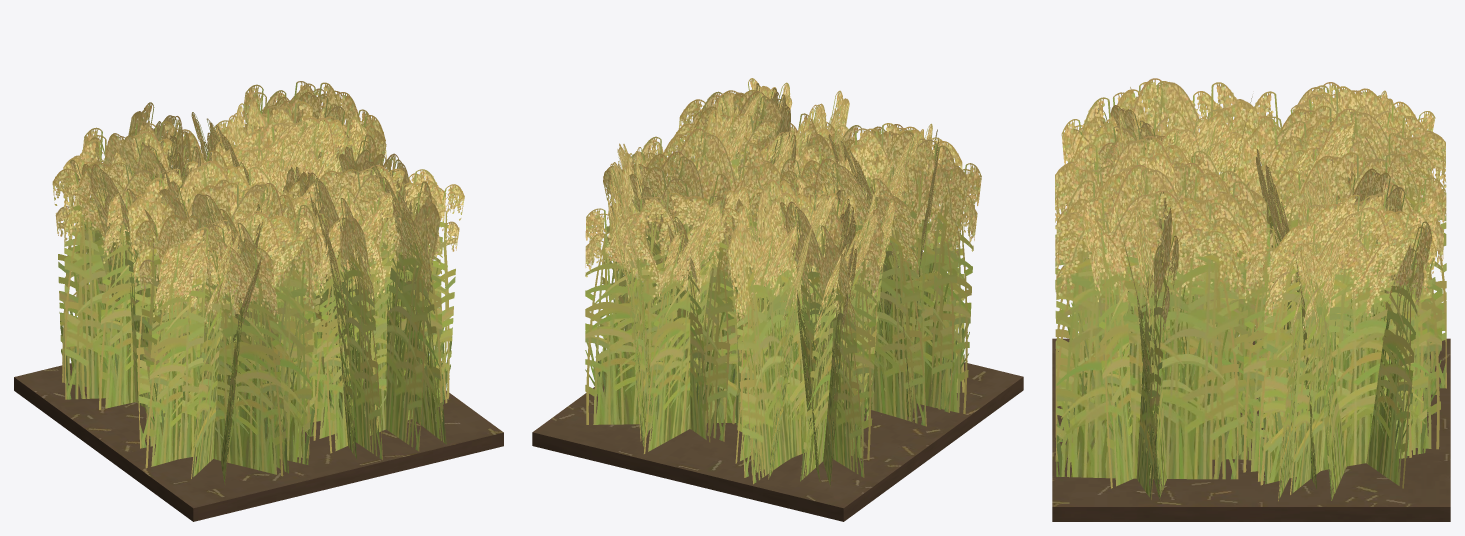
Rendered from millet_mature.glb.
3 renders of one model, left to right at view 1: azimuth 30°, elevation 25°; view 2: azimuth 150°, elevation 25°; view 3: azimuth 270°, elevation 25°, orthographic. The views are drawn at different scales.
Visible parts, largest first — view 1: crop_xneg_zpos, crop_xpos_zpos, crop_xneg_zneg, soil, crop_xpos_zneg; view 2: crop_xpos_zneg, crop_xneg_zneg, crop_xneg_zpos, soil, crop_xpos_zpos; view 3: crop_xpos_zpos, crop_xpos_zneg, soil, crop_xneg_zneg, crop_xneg_zpos.
Boxes of the visible parts, <box> form: crop_xneg_zpos: <box>128,161,324,485</box>; crop_xpos_zpos: <box>279,146,464,460</box>; crop_xneg_zneg: <box>52,102,251,409</box>; soil: <box>14,363,503,521</box>; crop_xpos_zneg: <box>191,81,386,320</box>; crop_xpos_zneg: <box>585,128,780,453</box>; crop_xneg_zneg: <box>728,177,895,487</box>; crop_xneg_zpos: <box>780,123,981,426</box>; soil: <box>532,362,1023,521</box>; crop_xpos_zpos: <box>674,78,849,301</box>; crop_xpos_zpos: <box>1055,136,1266,502</box>; crop_xpos_zneg: <box>1242,149,1445,501</box>; soil: <box>1052,338,1450,521</box>; crop_xneg_zneg: <box>1236,82,1446,394</box>; crop_xneg_zpos: <box>1061,78,1261,373</box>.
Bounding box in the file's own units: 1 × 0.9942 × 1.
2 materials, 2 textured.
